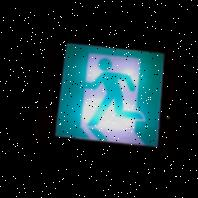emergency_exit: (54, 42, 166, 149)
